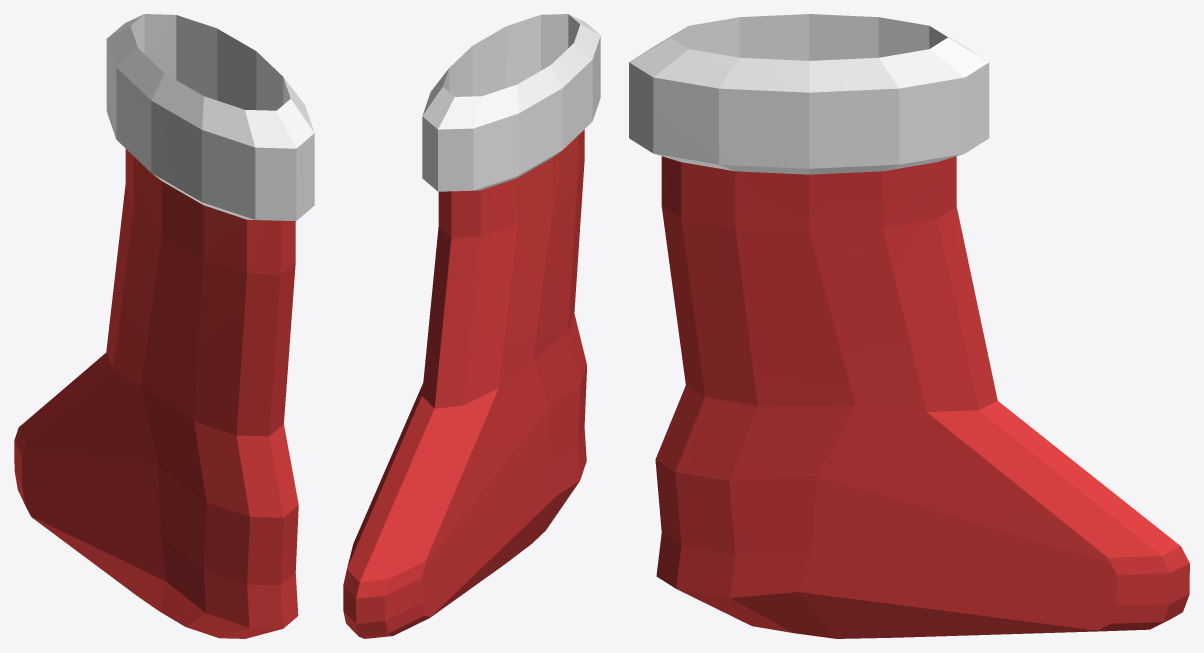
File: Socks.fbx
The picture shows the model from 3 angles, left to right: view 1: azimuth 30°, elevation 25°; view 2: azimuth 150°, elevation 25°; view 3: azimuth 270°, elevation 25°; orthographic projection. The views are drawn at different scales.
Visible parts, largest first — view 1: Cylinder; view 2: Cylinder; view 3: Cylinder.
Part boxes in pixels (x1,y1,x2,y2): Cylinder: [14, 14, 314, 638]; Cylinder: [343, 14, 600, 638]; Cylinder: [629, 14, 1189, 638].
Size of the model in its own units: 64.21 by 291 by 250.
